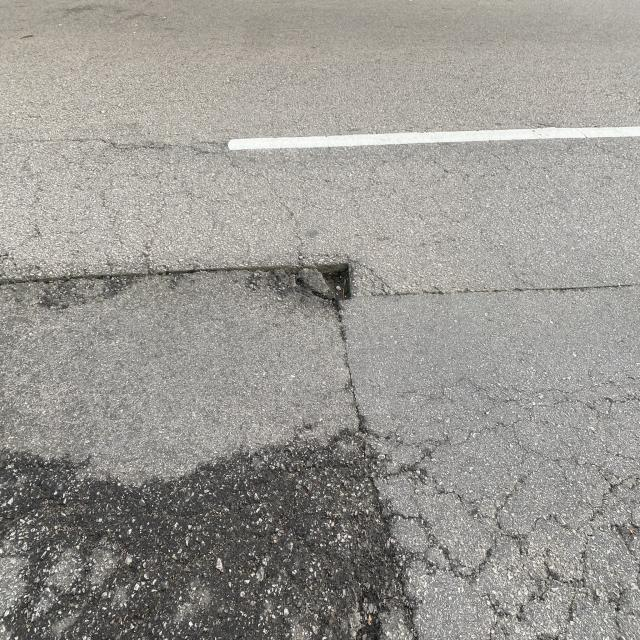pothole: (274, 250, 430, 416)
